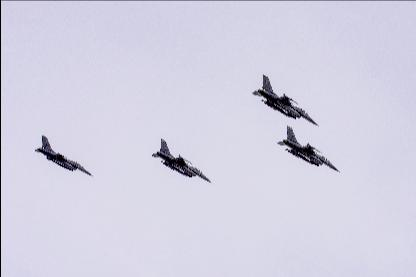F14: (250, 74, 320, 127), (276, 124, 340, 172), (151, 137, 213, 183), (34, 134, 94, 176)
